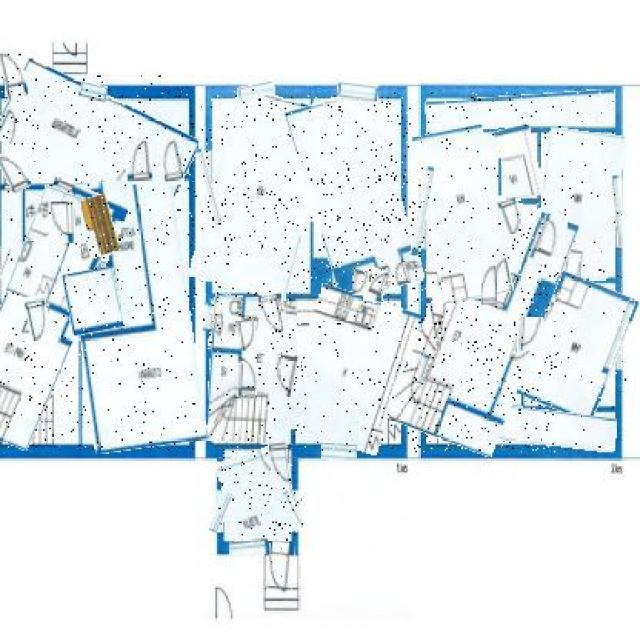door: (268, 541, 295, 597), (534, 213, 563, 264), (272, 352, 303, 397), (126, 137, 151, 185), (0, 147, 26, 190), (50, 203, 76, 246), (2, 51, 26, 97), (26, 295, 49, 343), (262, 292, 286, 337), (160, 137, 182, 185), (269, 440, 289, 486), (519, 317, 543, 351), (500, 197, 523, 232), (366, 268, 389, 303), (237, 363, 257, 399), (480, 263, 497, 305), (237, 318, 257, 351), (354, 270, 369, 296)
window: (608, 297, 629, 375), (414, 166, 431, 257), (200, 148, 217, 226), (338, 82, 378, 105), (229, 538, 268, 557), (212, 491, 230, 532), (614, 176, 623, 247), (288, 489, 303, 529), (238, 83, 274, 99), (320, 445, 357, 460), (80, 83, 108, 102), (0, 243, 6, 295), (418, 354, 428, 383), (203, 303, 212, 331)
zone: (408, 192, 558, 452), (68, 177, 198, 451), (0, 178, 103, 448), (200, 91, 323, 295), (0, 75, 194, 200), (298, 92, 412, 297), (288, 289, 410, 449), (514, 272, 629, 416), (420, 128, 506, 300), (210, 297, 296, 443), (535, 131, 620, 278), (220, 448, 298, 543), (427, 92, 616, 130), (15, 188, 77, 303), (478, 406, 616, 449), (117, 182, 157, 326), (65, 269, 122, 334), (498, 126, 540, 200), (71, 197, 115, 258), (211, 295, 243, 354)
